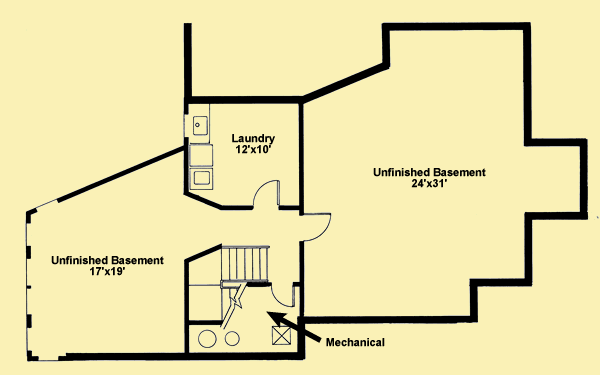door: (299, 210, 333, 242), (251, 178, 281, 211), (269, 280, 298, 309)
small_sink: (192, 115, 210, 137)
stairs: (218, 244, 269, 285)
